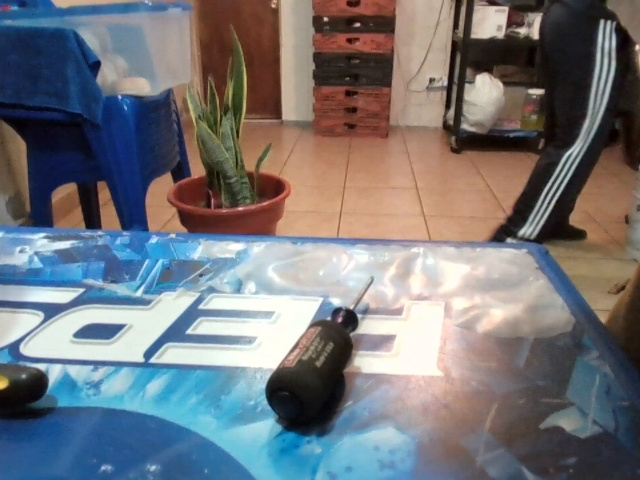destornillador: (265, 275, 375, 430)
